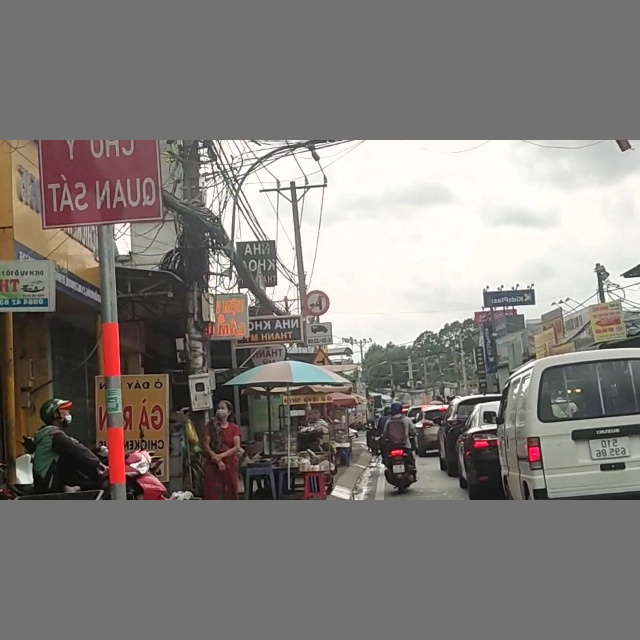P.139: (303, 289, 332, 317)
S.505a*Xe tai: (303, 321, 334, 344)
W.205b: (305, 349, 337, 366)
